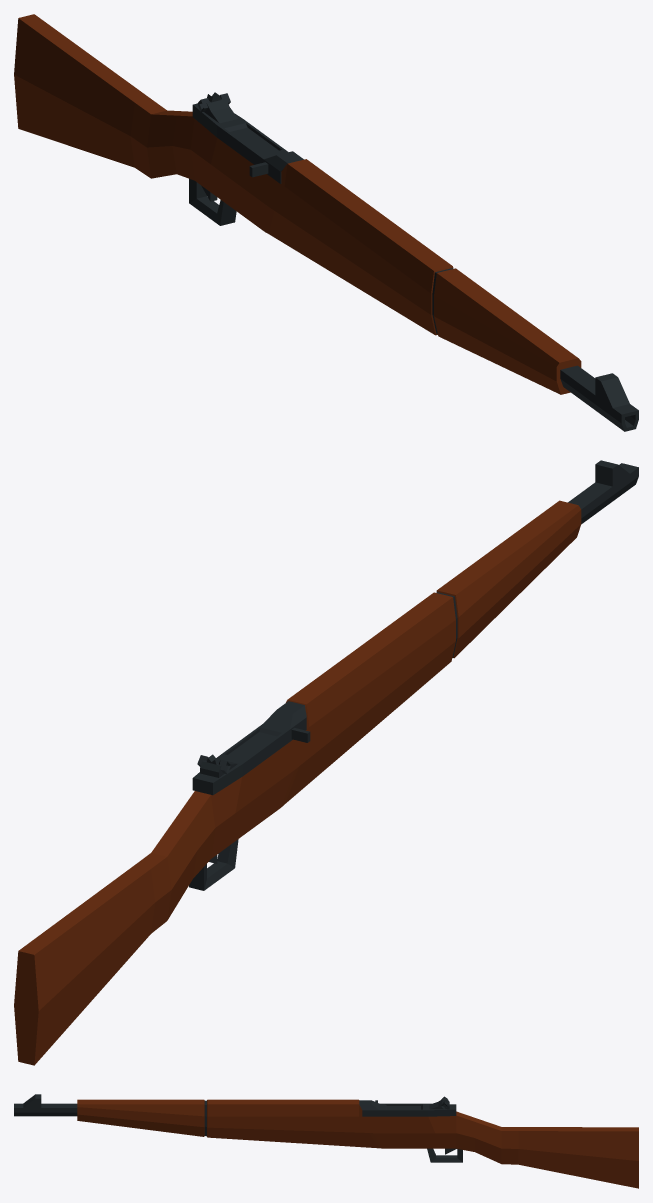
File: Rifle.fbx
3 renders of one model, top to bottom at view 1: azimuth 30°, elevation 25°; view 2: azimuth 150°, elevation 25°; view 3: azimuth 270°, elevation 25°, orthographic. The views are drawn at different scales.
Parts seen in each view (by area): view 1: Cube; view 2: Cube; view 3: Cube.
Part boxes in pixels (x1,y1,x2,y2): Cube: (14,14,638,431); Cube: (14,460,638,1065); Cube: (14,1094,638,1188).
Size of the model in its own units: 15.73 by 61.92 by 389.
